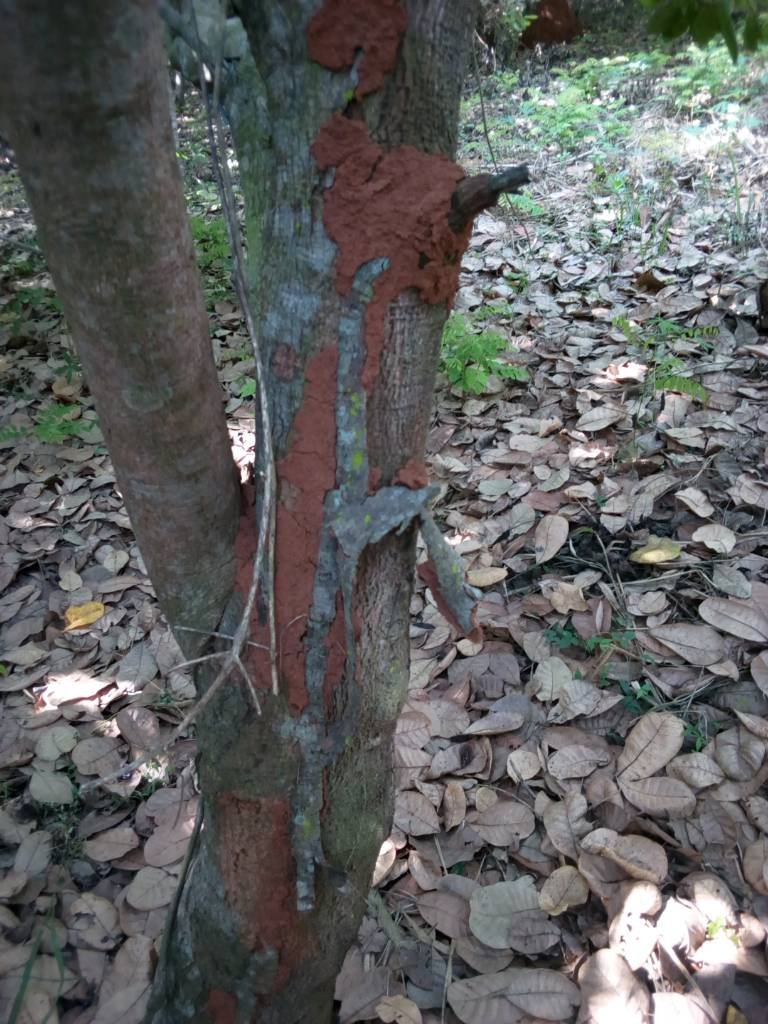Termites: (313, 3, 477, 313), (235, 352, 340, 714), (232, 750, 321, 1016)
